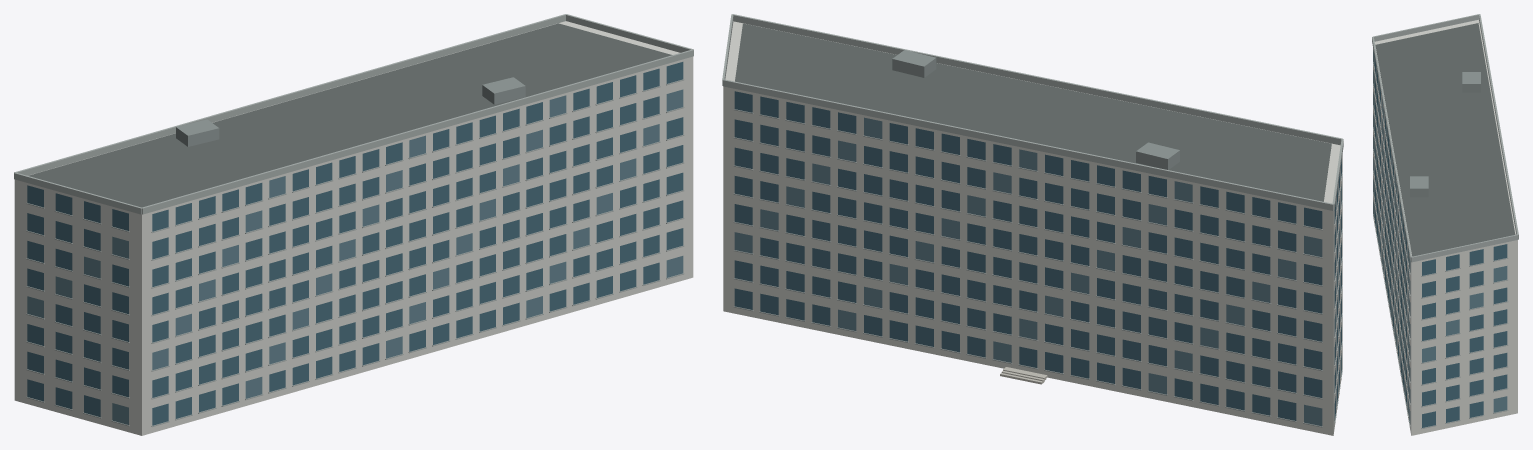
The model's file is 东侧办公园区-038.glb.
3 renders of one model, left to right at view 1: azimuth 30°, elevation 25°; view 2: azimuth 150°, elevation 25°; view 3: azimuth 270°, elevation 25°, orthographic. The views are drawn at different scales.
Visible parts, largest first — view 1: 东侧办公园区-038; view 2: 东侧办公园区-038; view 3: 东侧办公园区-038.
Boxes of the visible parts, x1=… form: 东侧办公园区-038: x1=14, y1=14, x2=693, y2=435; 东侧办公园区-038: x1=722, y1=14, x2=1343, y2=435; 东侧办公园区-038: x1=1372, y1=14, x2=1518, y2=435.
Size of the model in its own units: 81.13 by 28.42 by 20.66.
